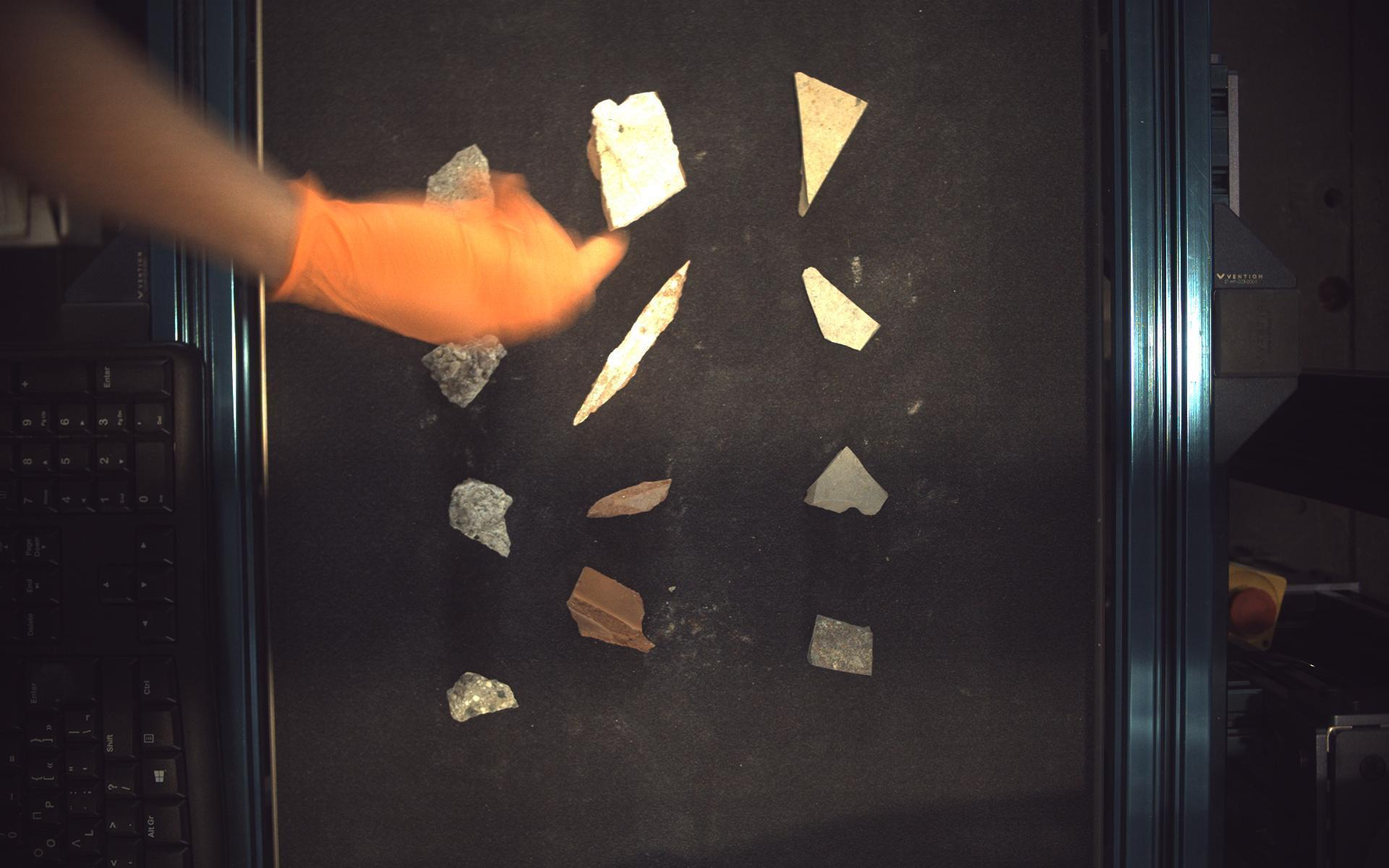brick: (574, 260, 690, 425), (588, 90, 687, 229), (567, 569, 654, 653), (588, 480, 672, 519)
concrete: (422, 335, 506, 408), (449, 479, 513, 558), (447, 673, 518, 723)
tile: (796, 71, 869, 215), (804, 266, 881, 350), (806, 448, 890, 516), (810, 616, 875, 676)
